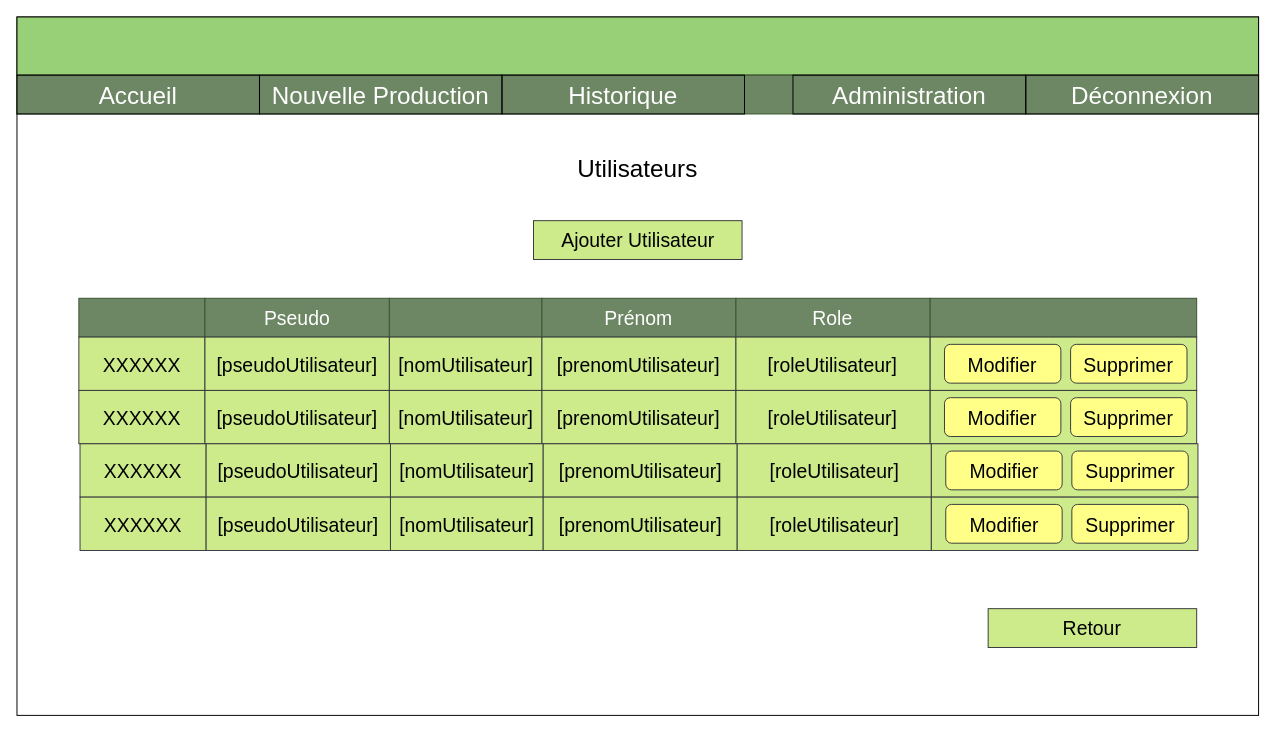
This 1276x732 diagram has some shape labels left out. Each missing label, with the centre of its shape:
Actions: (x=1063, y=317)
Gestion de production: (x=637, y=45)
id: (x=141, y=317)
Nom: (x=465, y=317)
